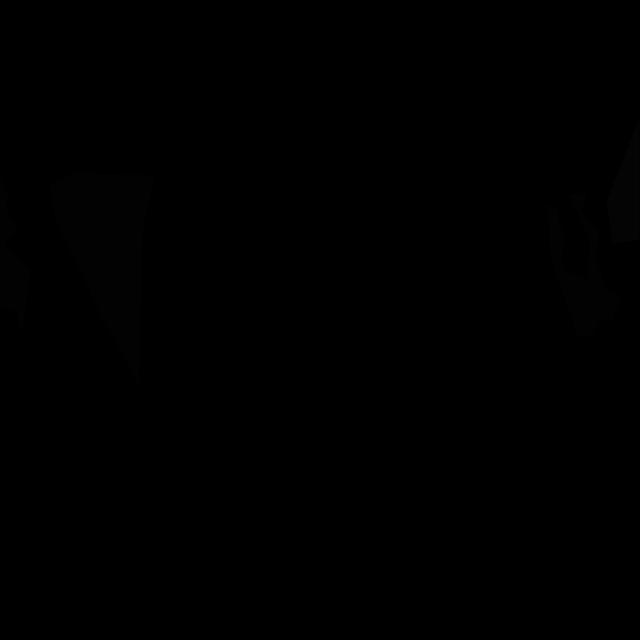cardboard: (49, 173, 155, 385), (548, 192, 622, 338), (0, 176, 31, 336)
soft_plastic: (606, 117, 640, 244)
